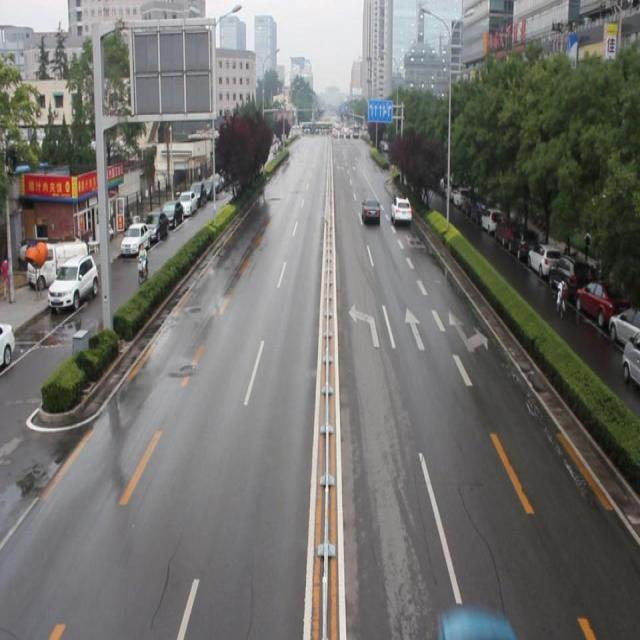car: (390, 196, 411, 225), (360, 198, 379, 222)
